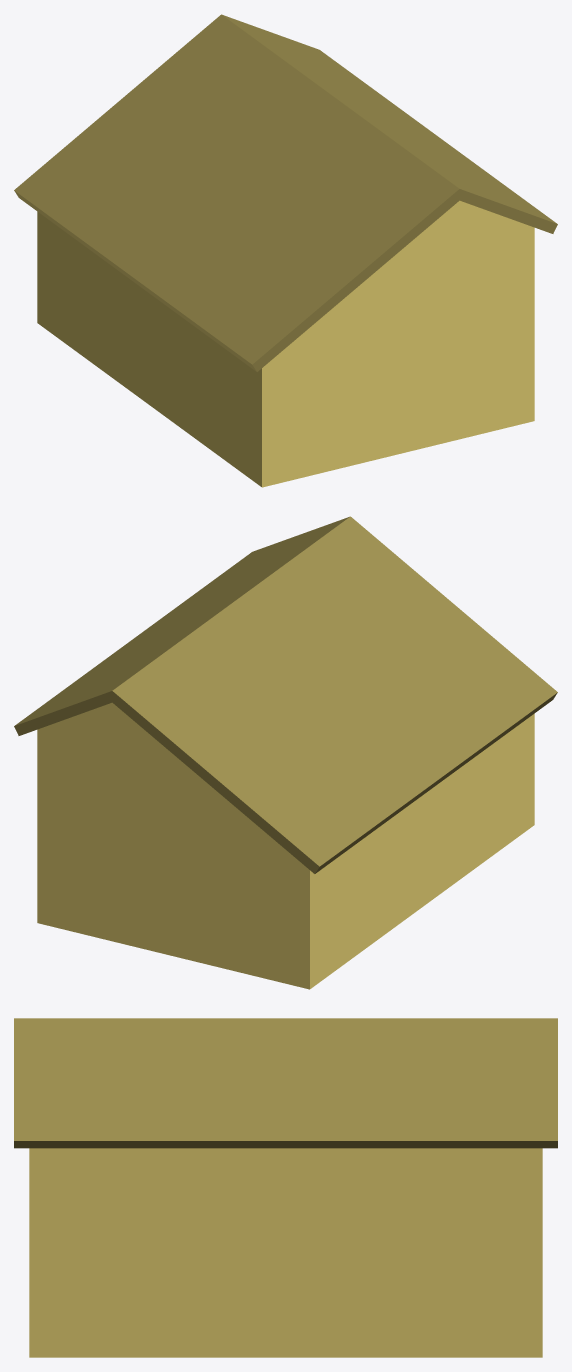
File: result.glb
3 renders of one model, top to bottom at view 1: azimuth 30°, elevation 25°; view 2: azimuth 150°, elevation 25°; view 3: azimuth 270°, elevation 25°, orthographic. The views are drawn at different scales.
Visible parts, largest first — view 1: e80a012e-1682-400a-93f3-d401f26d5457__undefined (×2), 812e94dc-697f-4537-ae73-ed7a049764b8__undefined; view 2: e80a012e-1682-400a-93f3-d401f26d5457__undefined (×2), 812e94dc-697f-4537-ae73-ed7a049764b8__undefined; view 3: 812e94dc-697f-4537-ae73-ed7a049764b8__undefined, e80a012e-1682-400a-93f3-d401f26d5457__undefined.
Part boxes in pixels (x1=…): e80a012e-1682-400a-93f3-d401f26d5457__undefined (×2): x1=14, y1=14, x2=557, y2=371; 812e94dc-697f-4537-ae73-ed7a049764b8__undefined: x1=37, y1=200, x2=534, y2=487; e80a012e-1682-400a-93f3-d401f26d5457__undefined (×2): x1=14, y1=516, x2=557, y2=873; 812e94dc-697f-4537-ae73-ed7a049764b8__undefined: x1=37, y1=702, x2=534, y2=989; 812e94dc-697f-4537-ae73-ed7a049764b8__undefined: x1=29, y1=1148, x2=542, y2=1357; e80a012e-1682-400a-93f3-d401f26d5457__undefined: x1=14, y1=1018, x2=557, y2=1148.
Bounding box in the file's own units: 785 × 631 × 1060.
